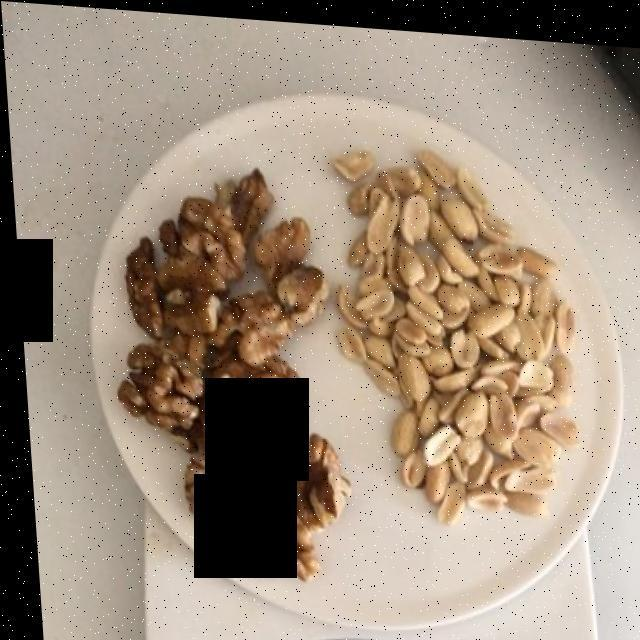walnut: (118, 176, 335, 559)
